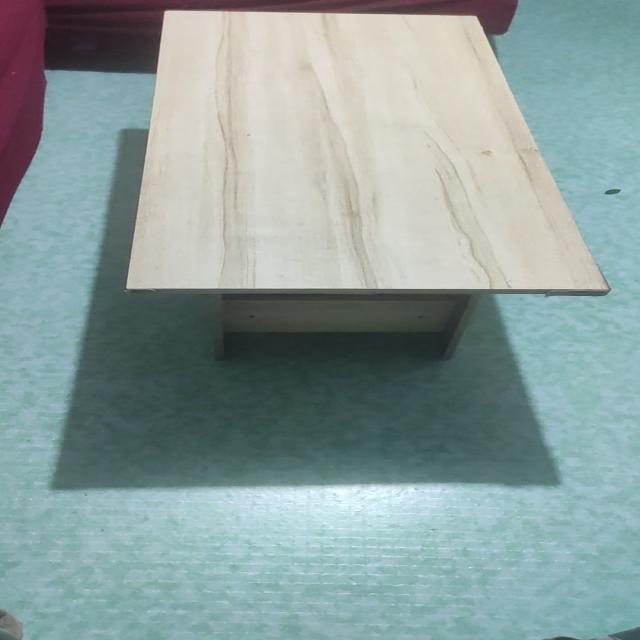table: (123, 8, 615, 377)
